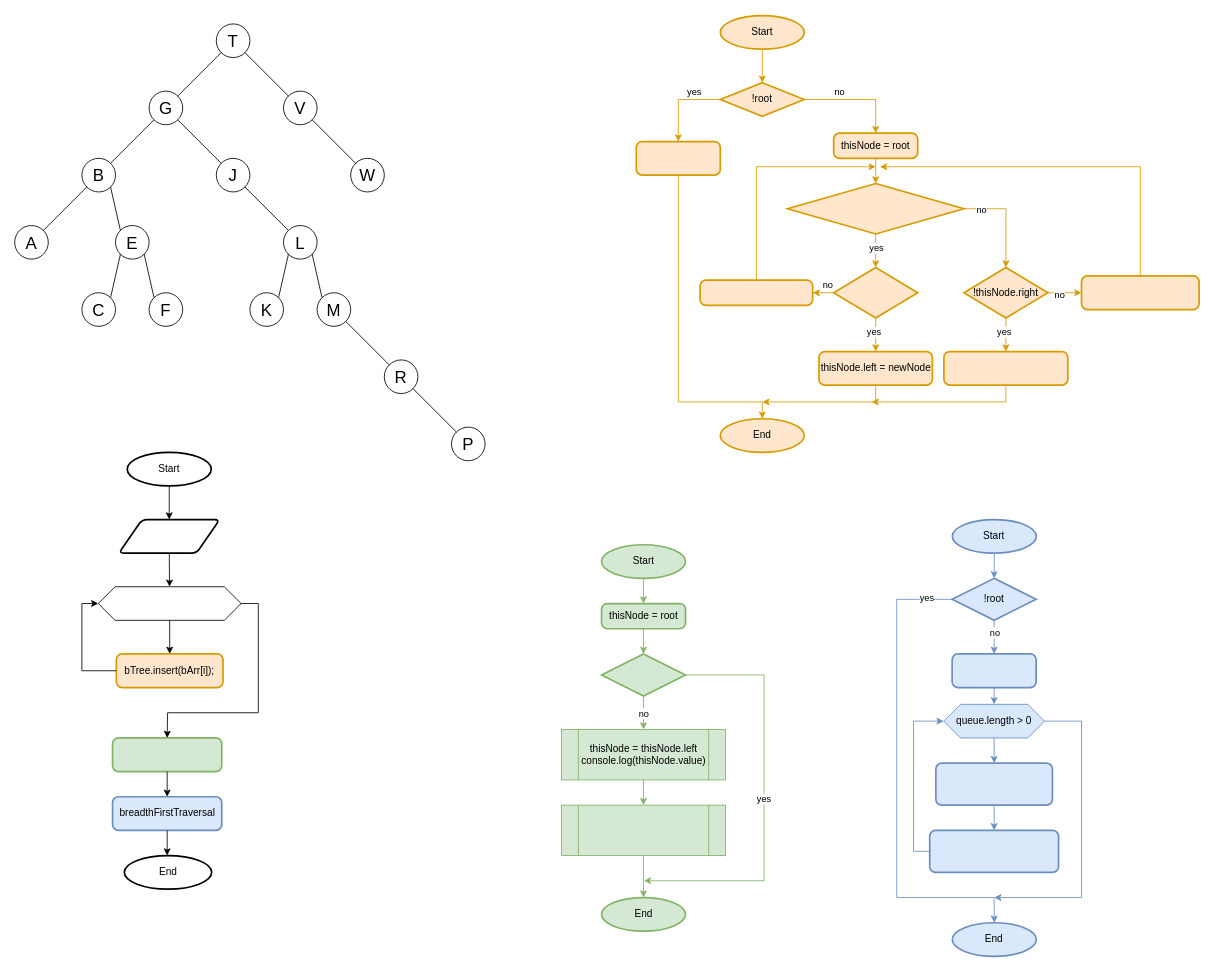
The diagram is 1215 pixels wide and 971 high, and some of its shapes have lost their labels. Each missing label, with the centre of its shape:
"!thisNode" goes at point 643,674.
"!thisNode.left" goes at point 875,292.
"i = 0; 10; 1" goes at point 169,603.
"input: bArr[]" goes at point 169,536.
"newNode.value < thisNode.value" goes at point 875,208.
"preOrderTraversal" goes at point 166,754.
"queue.push(root)" goes at point 994,670.
"queue.push(thisNode.left) queue.push(thisNode.right)" goes at point 993,851.
"root = newNode" goes at point 678,158.
"thisNode = queue.shift() console.log(thisNode)" goes at point 994,784.
"thisNode = thisNode.left" goes at point 756,292.
"thisNode = thisNode.right" goes at point 1140,292.
"thisNode = thisNode.right console.log(thisNode.value)" goes at point 643,830.
"thisNode.right = newNode" goes at point 1005,368.
